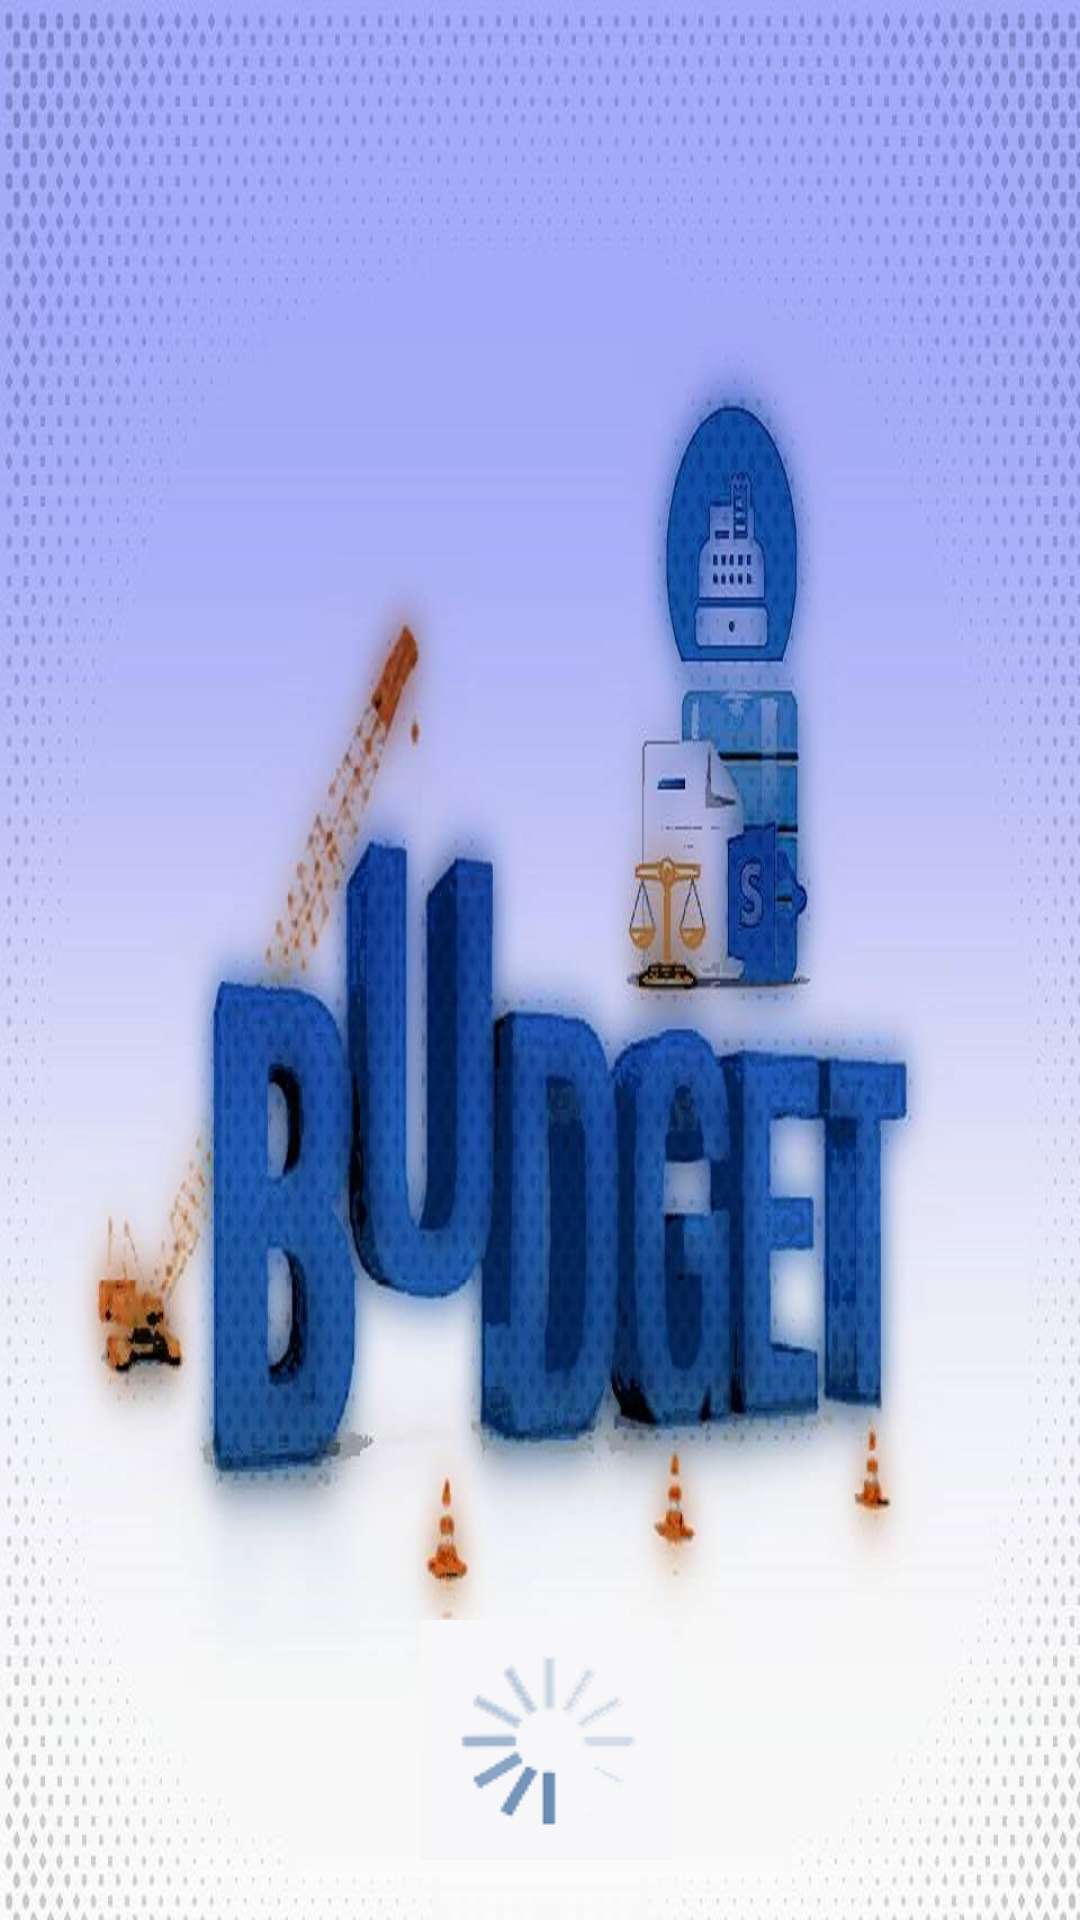

Icons on this 1080*1920 Android screen, each with the point to tap as point (x, y):
loading: point (547, 1742)
